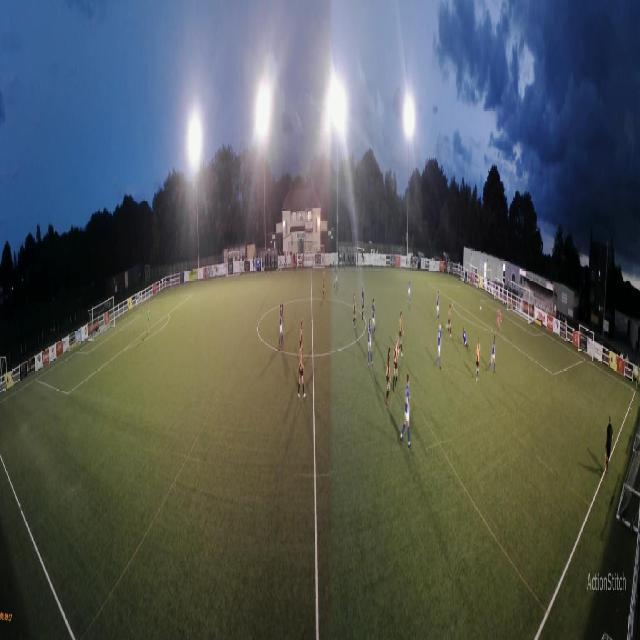ball: (479, 306, 482, 312)
player: (400, 373, 412, 449), (298, 340, 307, 399), (386, 347, 392, 407), (393, 335, 399, 393), (398, 310, 405, 358), (488, 334, 496, 375), (298, 318, 304, 367), (475, 335, 481, 383), (436, 323, 442, 370), (368, 317, 373, 366), (279, 304, 284, 348), (446, 305, 452, 339), (352, 292, 357, 328), (372, 299, 376, 340), (462, 326, 469, 348), (497, 306, 502, 332), (282, 304, 285, 345), (147, 304, 151, 334), (407, 277, 411, 305), (361, 286, 364, 321), (436, 291, 439, 326), (334, 265, 338, 291), (322, 271, 325, 300)
